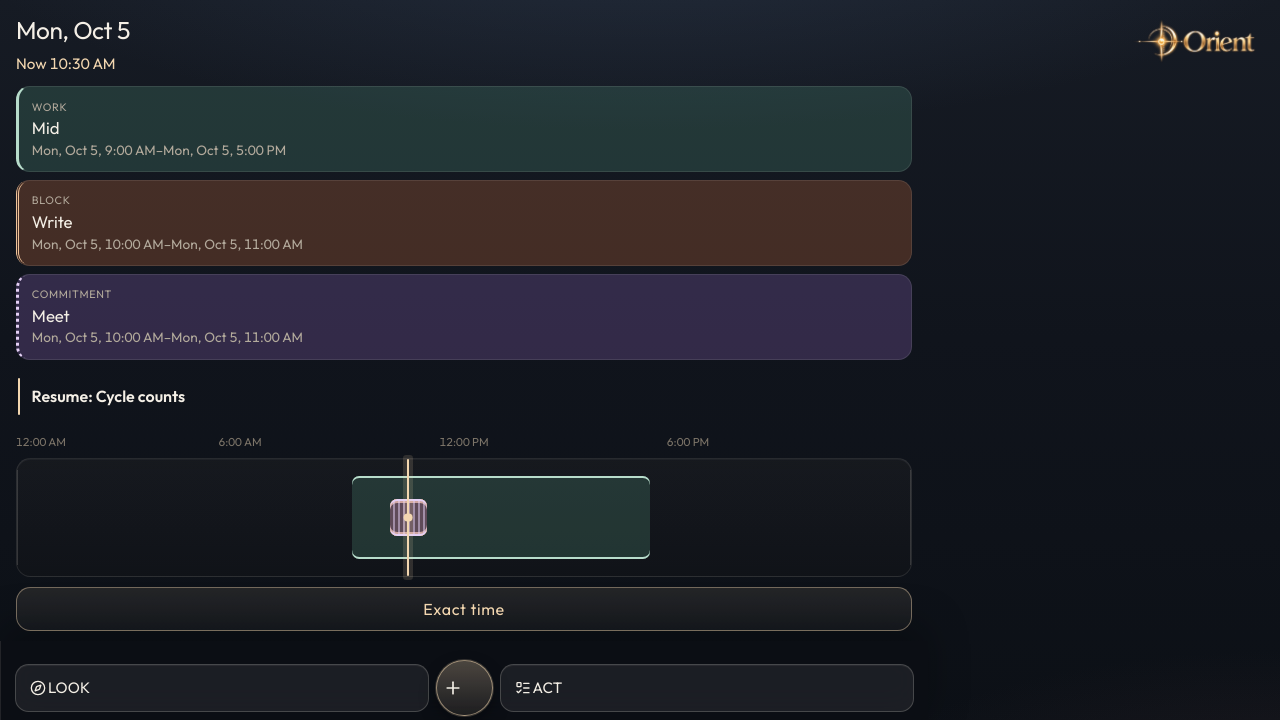
phone temporal continuity › reads Present from authoritative Now, every containing truth, and an independent thread
Click the button "LOOK".
click(69, 687)  # box [15,664,429,712]
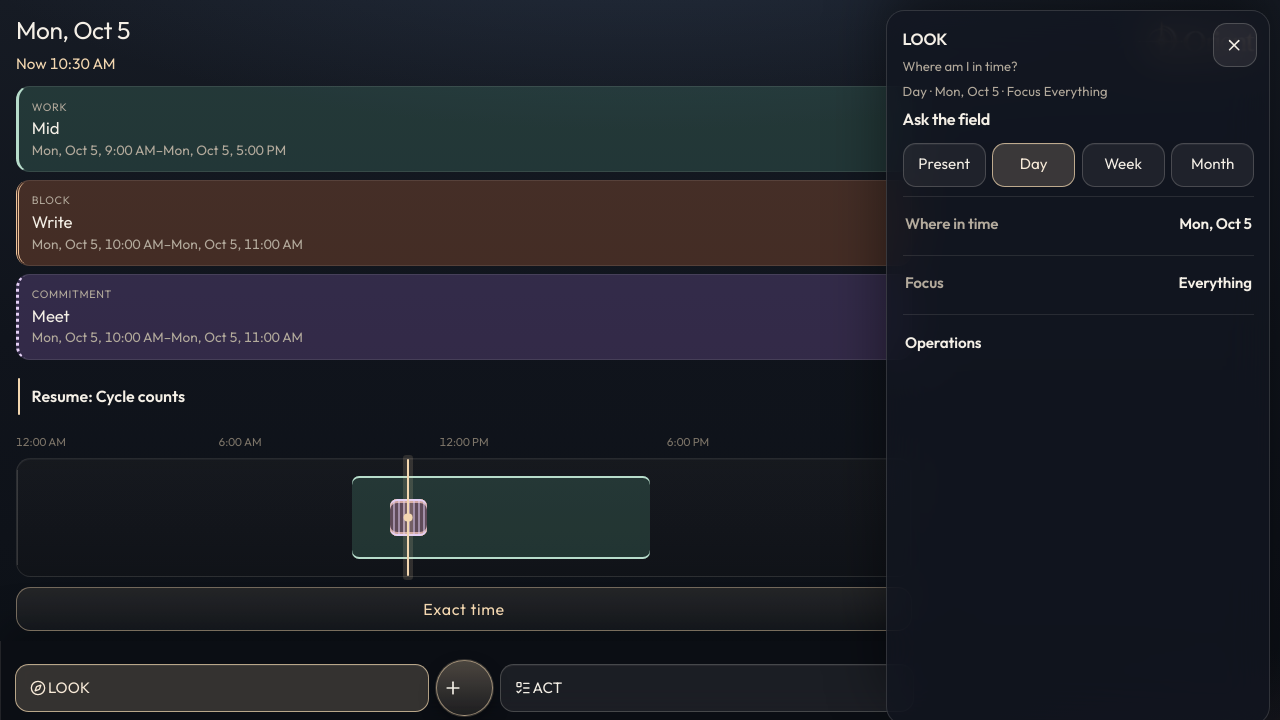
Click the button "Present".
click(944, 165)  # box [903,143,986,187]
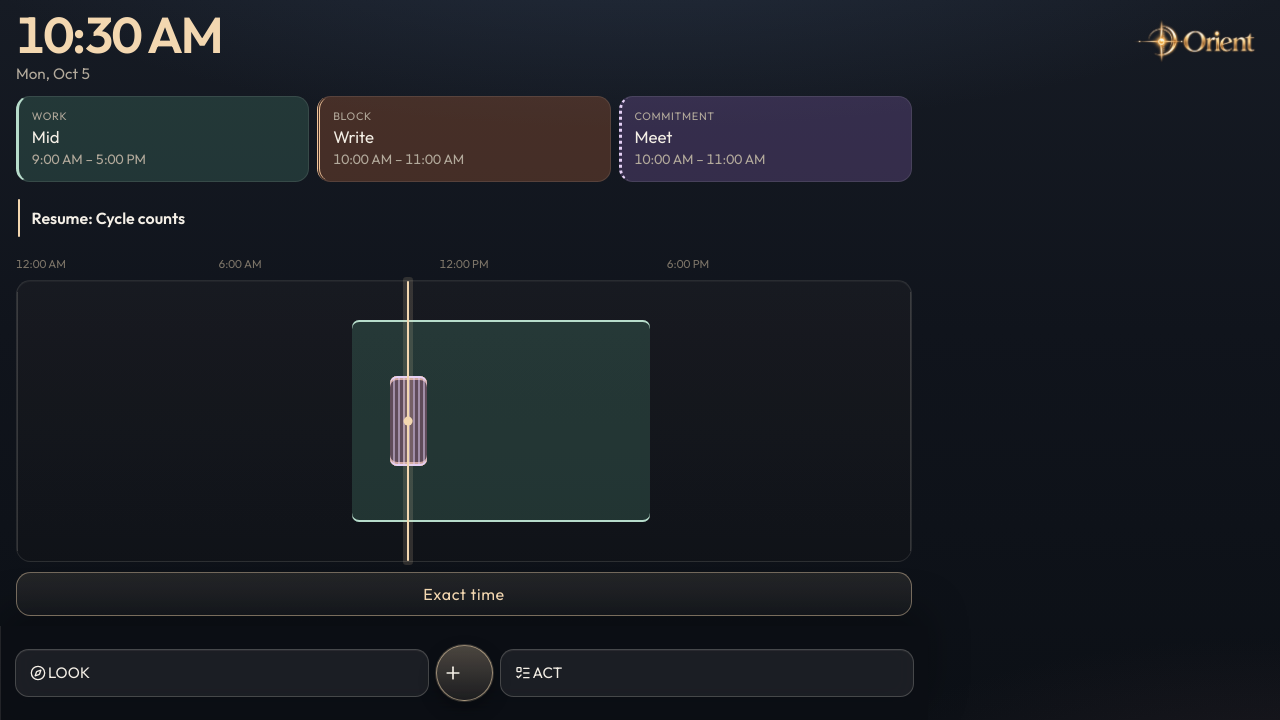
Expected: the button "Resume: Cycle counts" is shown, [16,196,912,240]
Expected: the element showing "10:30 AM Mon, Oct 5" is shown, [16,3,222,83]
Expected: the element that starts with "Work" is shown, [16,96,912,182]
